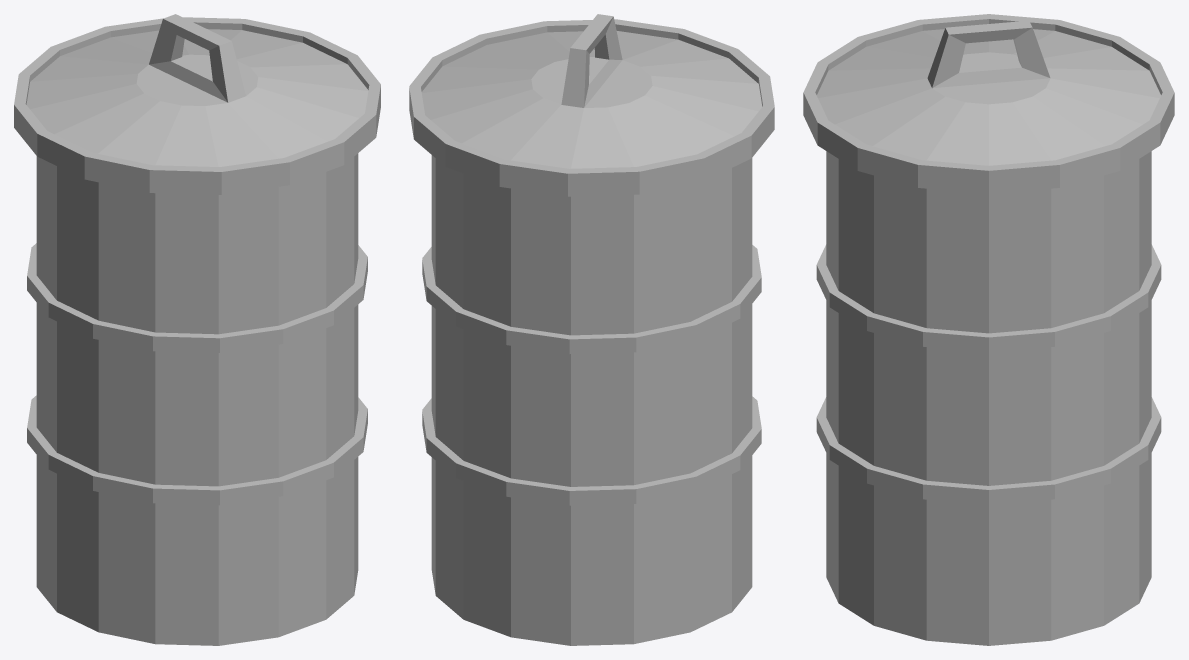
The model's file is TrashCan.fbx.
3 renders of one model, left to right at view 1: azimuth 30°, elevation 25°; view 2: azimuth 150°, elevation 25°; view 3: azimuth 270°, elevation 25°, orthographic.
Visible parts, largest first — view 1: TrashCan, TrashCap; view 2: TrashCan, TrashCap; view 3: TrashCan, TrashCap.
Boxes of the visible parts, bbox=[...] form: TrashCan: bbox=[27, 153, 367, 645]; TrashCap: bbox=[14, 14, 380, 194]; TrashCan: bbox=[422, 155, 761, 645]; TrashCap: bbox=[409, 14, 774, 196]; TrashCan: bbox=[816, 151, 1161, 645]; TrashCap: bbox=[803, 14, 1174, 193].
Bounding box in the file's own units: 0.6455 × 1.05 × 0.6455.
